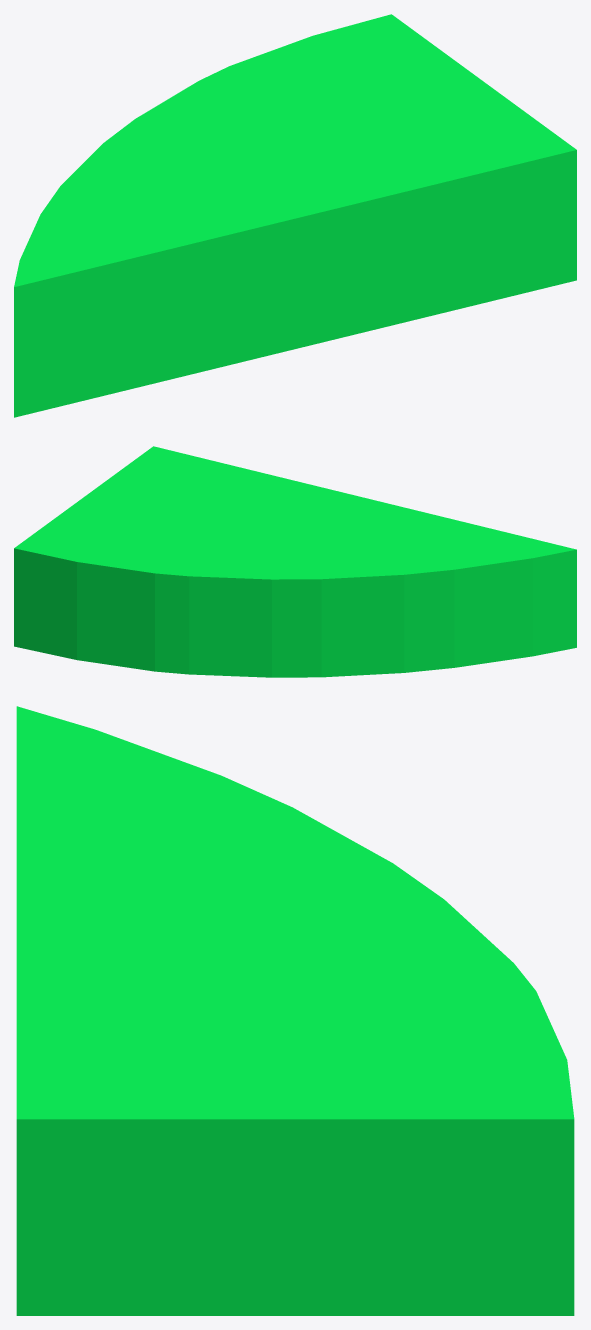
File: pezzoTetris6.fbx
3 renders of one model, top to bottom at view 1: azimuth 30°, elevation 25°; view 2: azimuth 150°, elevation 25°; view 3: azimuth 270°, elevation 25°, orthographic. The views are drawn at different scales.
Visible parts, largest first — view 1: Cube.001; view 2: Cube.001; view 3: Cube.001.
Part boxes in pixels (x1,y1,x2,y2): Cube.001: [14, 14, 576, 417]; Cube.001: [14, 446, 576, 677]; Cube.001: [16, 706, 574, 1315].
Size of the model in its own units: 90.16 by 19.97 by 51.42.
